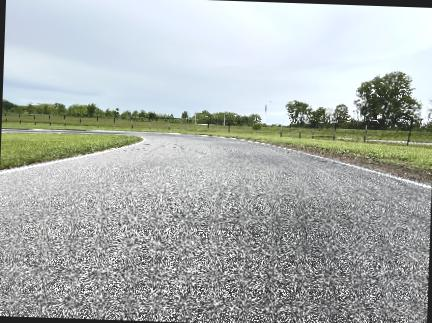Grass: (121, 127, 431, 169), (231, 134, 431, 182), (0, 133, 141, 169), (2, 114, 187, 131)
Lane: (0, 134, 431, 322)
